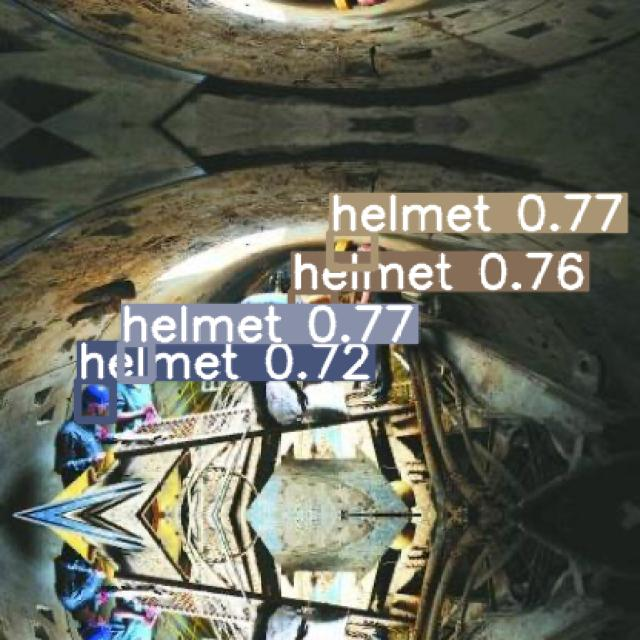helmet: (329, 231, 374, 267), (291, 290, 334, 325), (77, 380, 112, 420), (120, 342, 151, 380)
